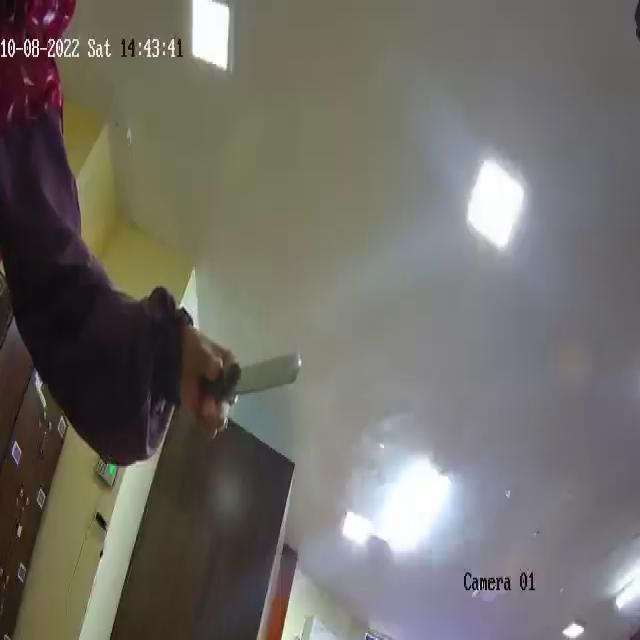Knife: (190, 344, 311, 412)
